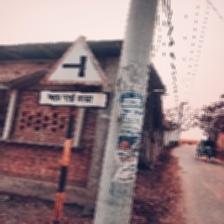Side-road-left: (38, 36, 110, 110)
